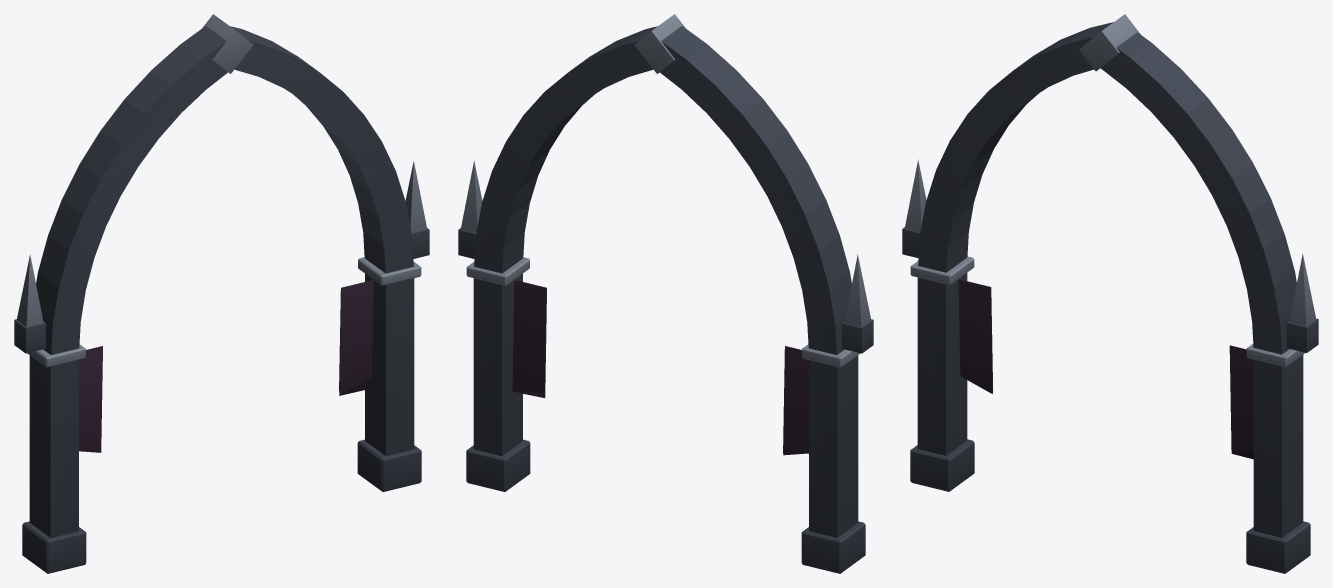
The model's file is gothic_arch.glb.
3 views of the same model, side by side, from view 1: azimuth 30°, elevation 25°; view 2: azimuth 150°, elevation 25°; view 3: azimuth 330°, elevation 25° (orthographic).
Parts seen in each view (by area): view 1: gothic_arch_mesh; view 2: gothic_arch_mesh; view 3: gothic_arch_mesh.
Part boxes in pixels (box(x1,y1,x2,y2)): gothic_arch_mesh: box(14, 14, 429, 573); gothic_arch_mesh: box(458, 14, 873, 573); gothic_arch_mesh: box(902, 14, 1318, 573).
Size of the model in its own units: 10 by 11.75 by 1.1.
